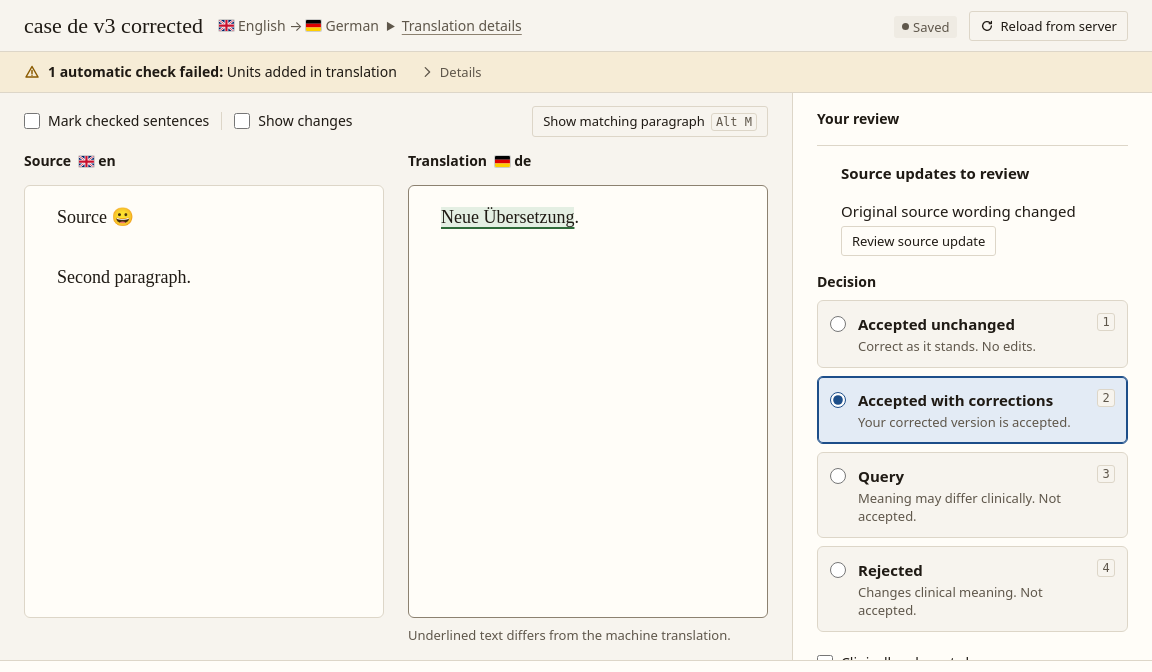
Test: resolves a corrected draft using the immutable cause translation pin and its saved draft revision
What coordinates should you click on to do the following:
click the button with aria-label "Review source update to original-v2"
I would click on:
 (919, 241)
Its box is x1=841 y1=226 x2=996 y2=256.
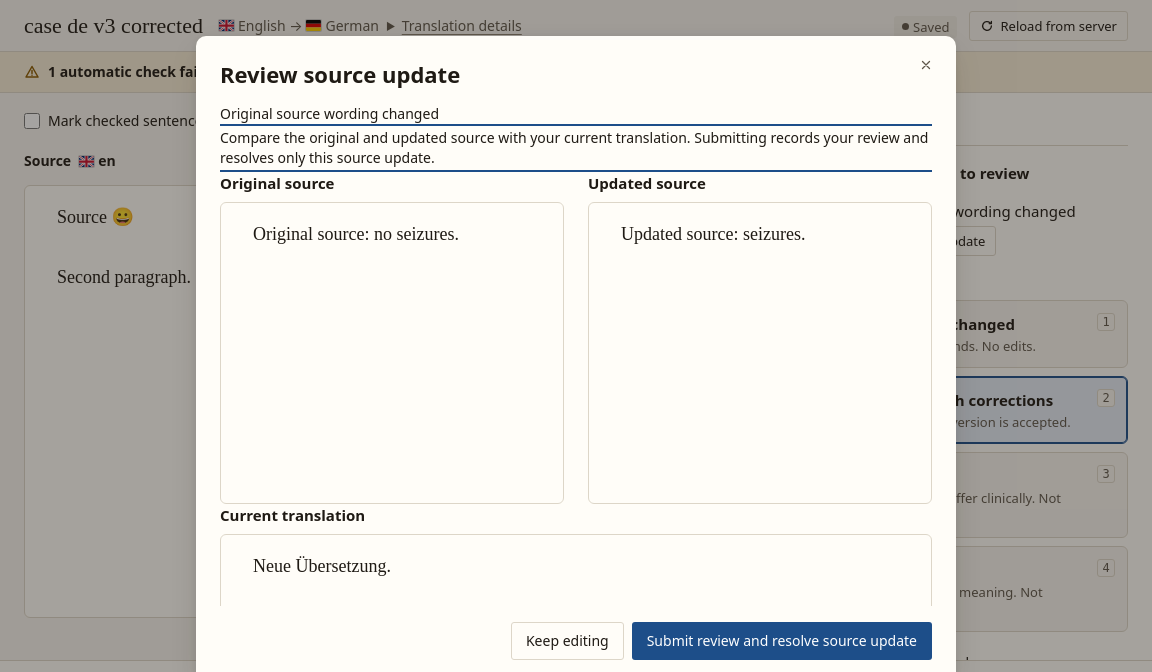
Expected: the text "Neue Übersetzung." is shown, x1=253 y1=556 x2=391 y2=576
What coordinates should you click on to do the following:
click the button "Submit review and resolve source update"
I would click on:
 (782, 641)
Its box is x1=632 y1=622 x2=932 y2=660.
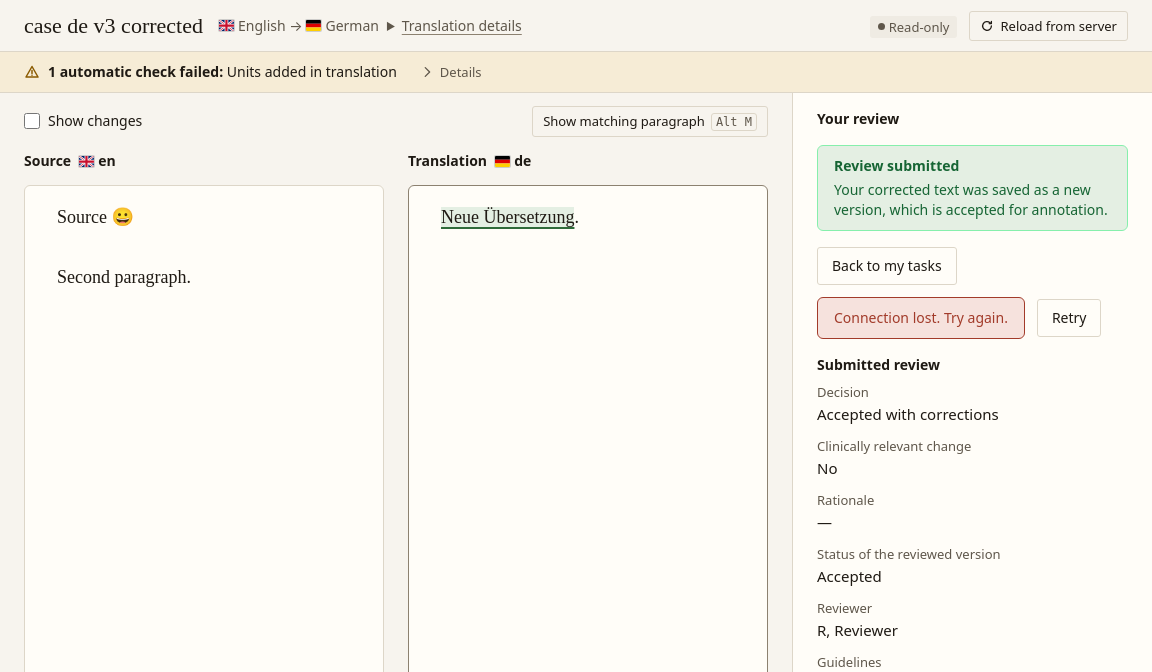
Expected: the text "Review submitted" is shown, x1=834 y1=156 x2=959 y2=175
